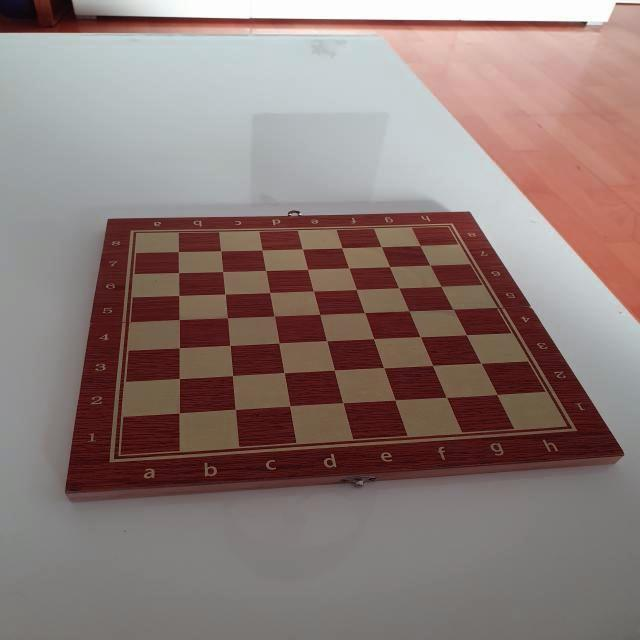chess-table-corners: (104, 446, 130, 466), (557, 418, 583, 436), (437, 218, 462, 234), (125, 224, 147, 238)
